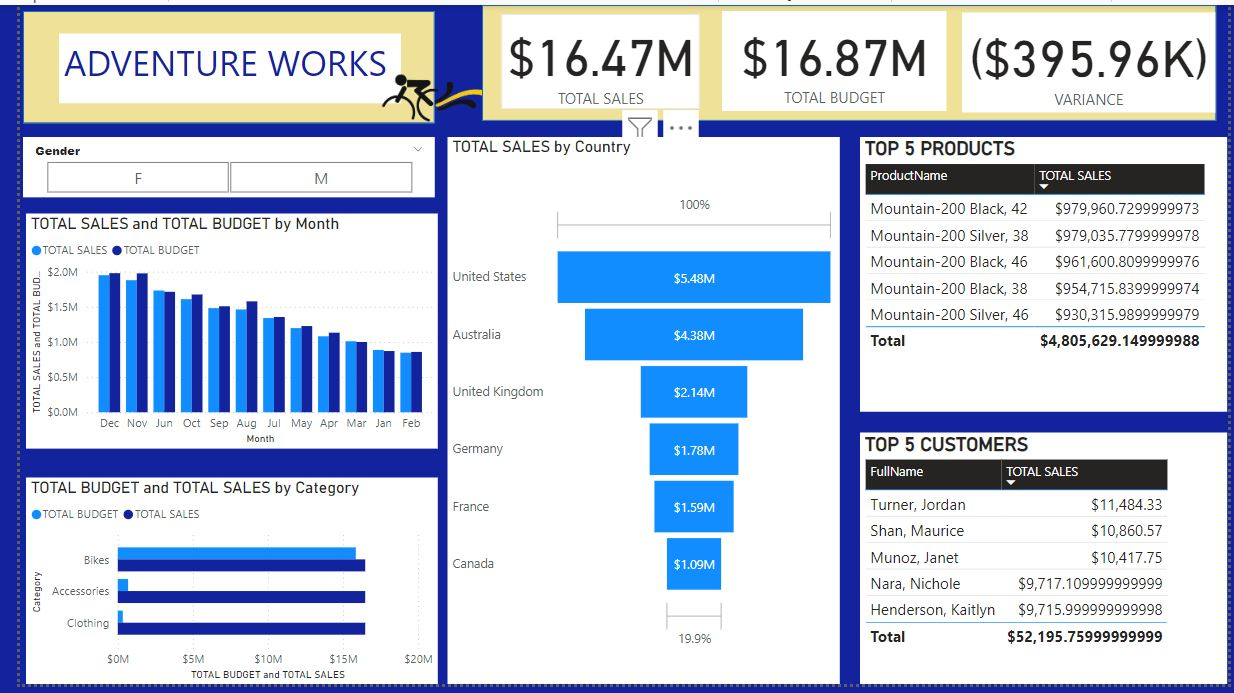

Layout of this report page (visuals, bound fields, positions):
{"tool":"powerbi","page":{"name":"Page 2","canvas":[1280,720],"ordinal":1},"visuals":[{"type":"textbox","box":[0,4.8,663.3,70],"z":0},{"type":"image","box":[503.3,0,160,108.3],"z":1000},{"type":"card","fields":{"Values":["Sales.Total Sales"]},"box":[688.7,4.8,208.4,151.1],"z":2000},{"type":"card","fields":{"Values":["Budget.Total Budget"]},"box":[908.2,6.4,211.6,149.5],"z":3000},{"type":"card","fields":{"Values":["Product.TOTAL PRODUCTS"]},"box":[1132.5,6.4,147.9,149.5],"z":4000},{"type":"slicer","fields":{"Values":["Customer.Gender"]},"box":[0,82.7,260.9,73.2],"z":5000},{"type":"slicer","fields":{"Values":["Product.Color"]},"box":[265.6,84.3,222.7,71.6],"z":6000},{"type":"slicer","fields":{"Values":["Customer.Occupation"]},"box":[494.7,84.3,170.2,71.6],"z":7000},{"type":"clusteredBarChart","fields":{"Y":["Sales.Total Sales","Budget.Total Budget"],"Category":["Product.Category"]},"box":[688.3,171.7,591.7,275],"z":8000},{"type":"map","fields":{"Size":["Sales.Total Sales"],"Category":["Region.Country"]},"box":[0,171.7,663.3,275],"z":9000},{"type":"lineChart","fields":{"Y":["Sales.Total Sales","Budget.Total Budget"],"Category":["Calendar.Month"]},"box":[0,457,663,263],"z":10000},{"type":"tableEx","title":"TOP 5 PRODUCTS","fields":{"Values":["Product.ProductName","Sales.Total Sales"]},"box":[686,458,284,242],"z":11000},{"type":"tableEx","title":"TOP 5 CUSTOMERS","fields":{"Values":["Customer.FullName","Sales.Total Sales"]},"box":[984,458,296,244],"z":12000}]}

Visuals, with their boxes in screenshot pixels (x1, y1, x2, y2), scaled from the page's 1280x720 canvas onto the 1234x693 screenshot:
textbox: 0,5,639,72
image: 485,0,639,104
card - Sales.Total Sales: 664,5,865,150
card - Budget.Total Budget: 876,6,1080,150
card - Product.TOTAL PRODUCTS: 1092,6,1233,150
slicer - Customer.Gender: 0,80,252,150
slicer - Product.Color: 256,81,471,150
slicer - Customer.Occupation: 477,81,641,150
clusteredBarChart - Sales.Total Sales x Budget.Total Budget: 664,165,1233,430
map - Sales.Total Sales x Region.Country: 0,165,639,430
lineChart - Sales.Total Sales x Budget.Total Budget: 0,440,639,692
"TOP 5 PRODUCTS" tableEx: 661,441,935,674
"TOP 5 CUSTOMERS" tableEx: 949,441,1233,676
